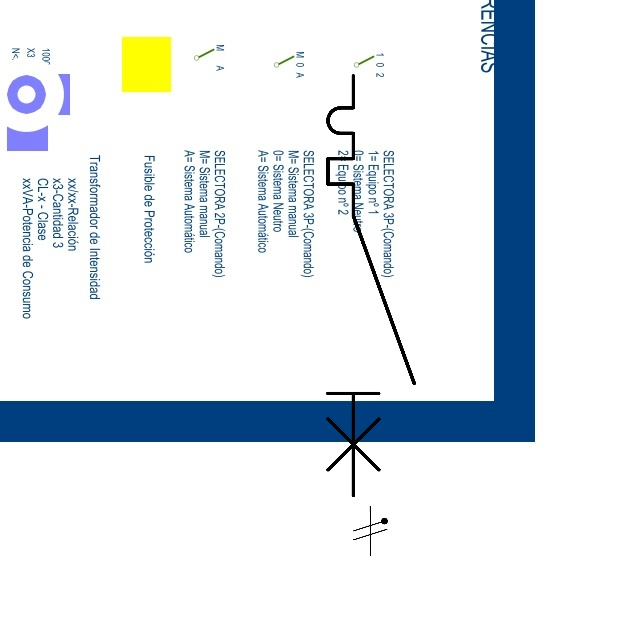interruptor_termomagnetico: (317, 65, 425, 506)
